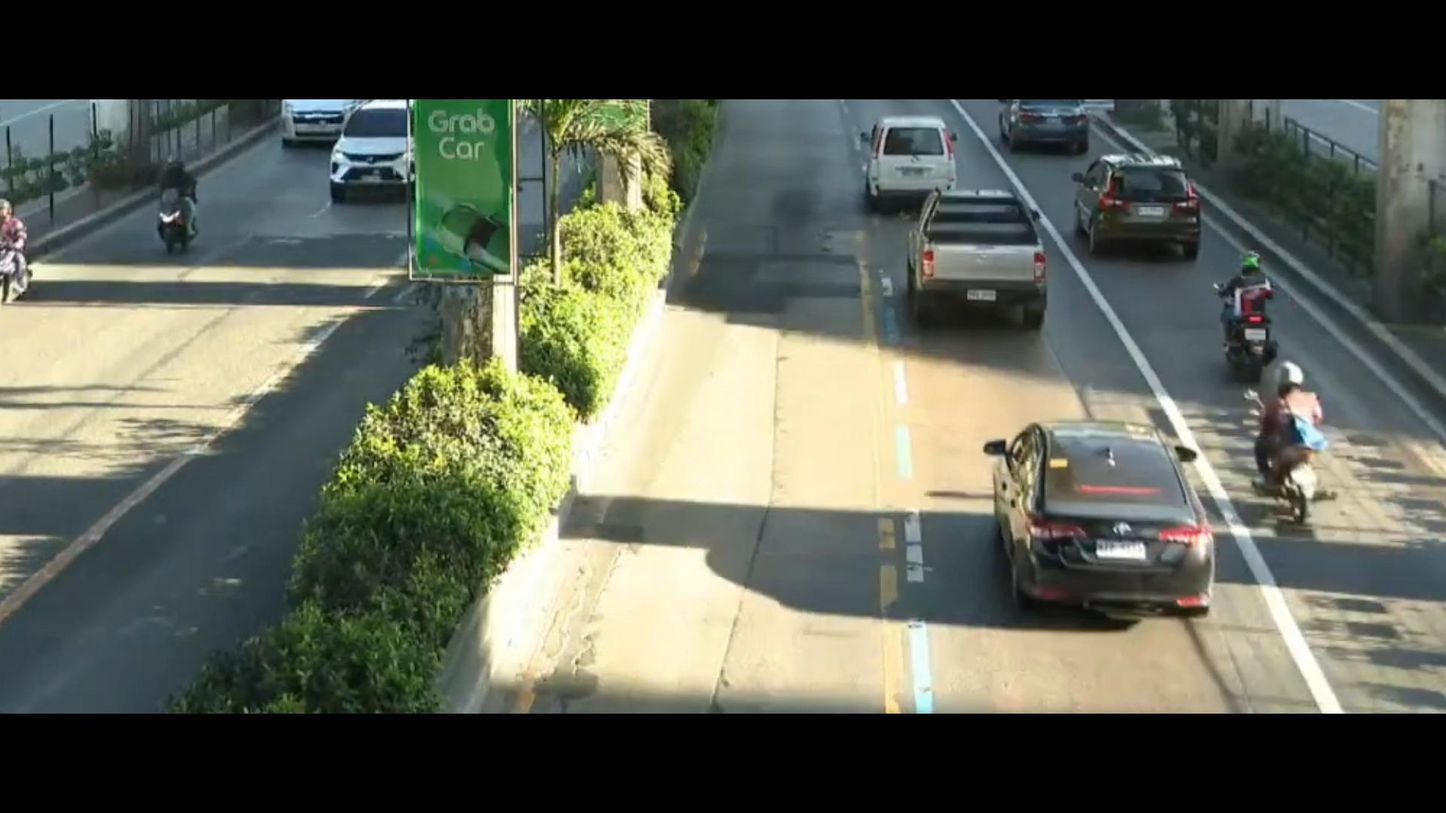Motorcycle: (1227, 347, 1350, 539), (1200, 247, 1279, 369), (135, 160, 224, 264), (0, 198, 46, 309)
Pickup: (882, 172, 1062, 321)
SUV: (1059, 138, 1212, 259), (332, 98, 415, 209), (863, 110, 959, 191)
Sedan: (981, 390, 1222, 627)
